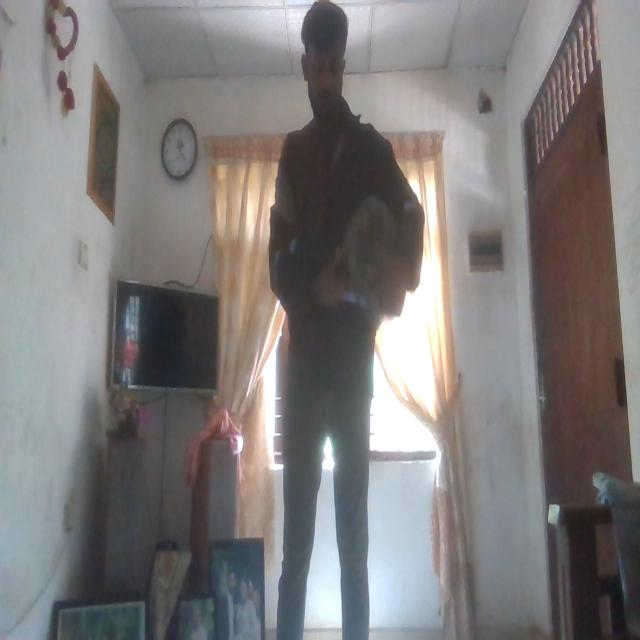Jacket_Wearer: (268, 108, 428, 406)
Person: (261, 0, 425, 640)
